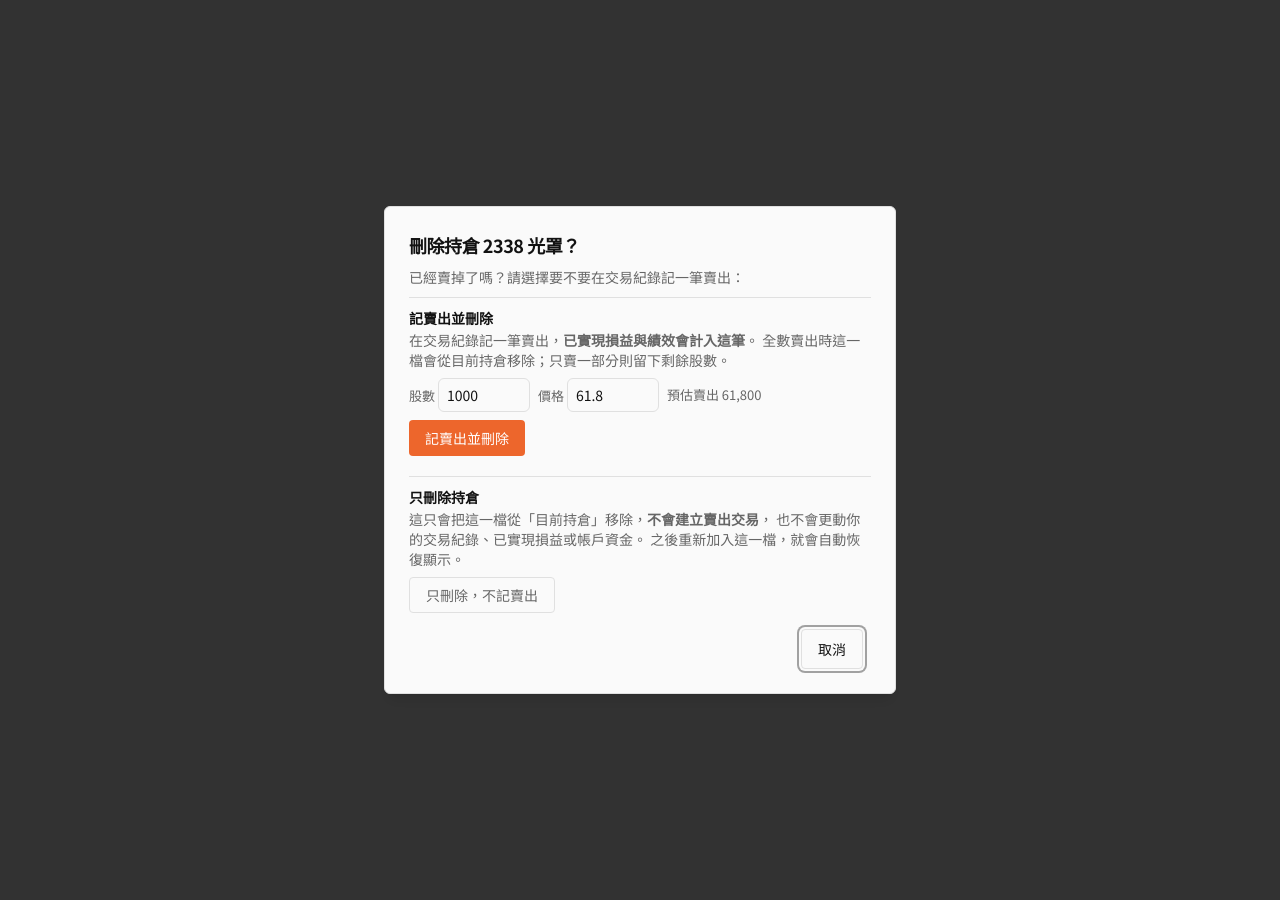
HoldingDeleteDialog 二選一 › 非正數價格：顯示錯誤且不送出
Replace the text in the number field with test id "holding-delete-sell-price" with "0" at (613, 395), box [567, 378, 659, 412]
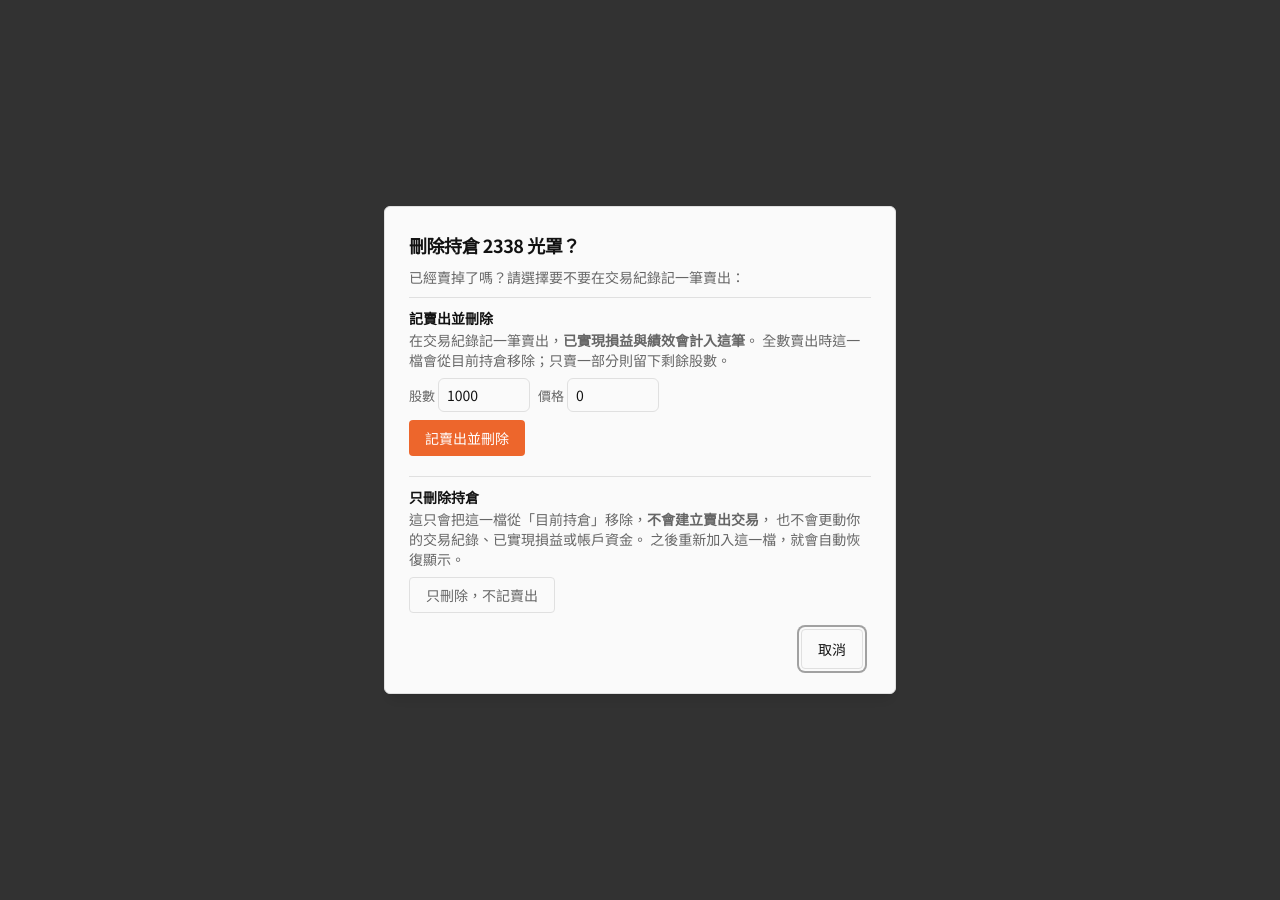
Click the button with test id "holding-delete-sell" at (467, 438), box [409, 420, 525, 456]
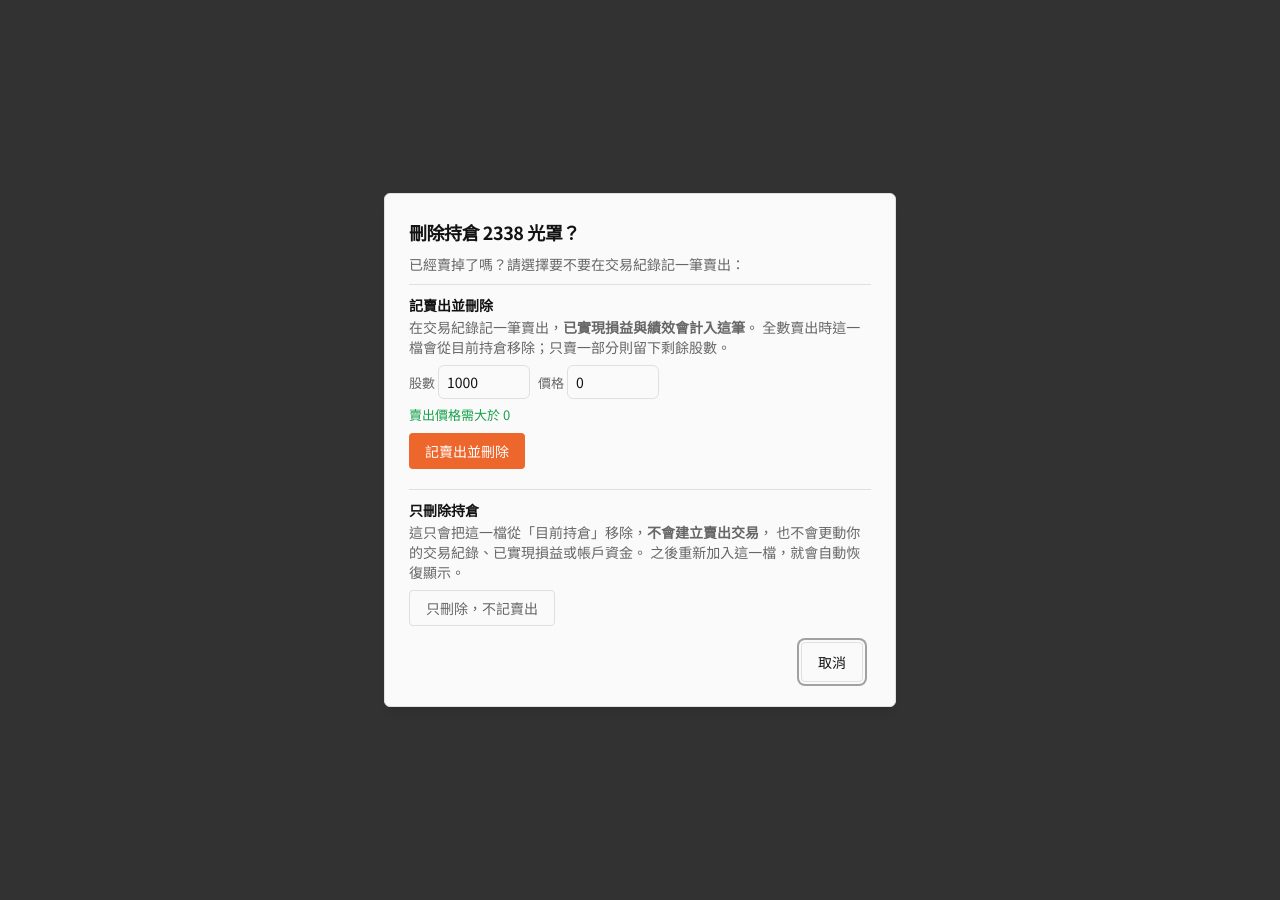
Now the text with test id "holding-delete-error" reads "賣出價格需大於 0", box [409, 405, 510, 424]
